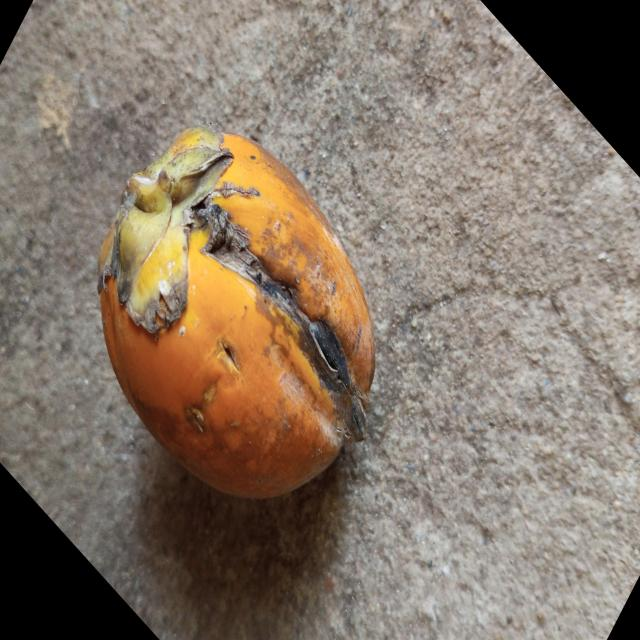damaged: (96, 129, 375, 503)
